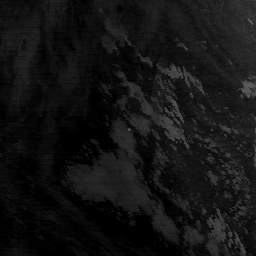Target: (126, 127, 132, 132)
